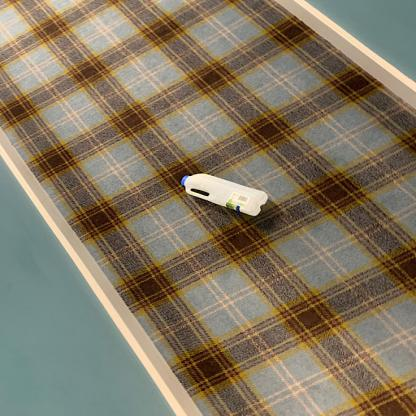trash: (180, 173, 270, 218)
